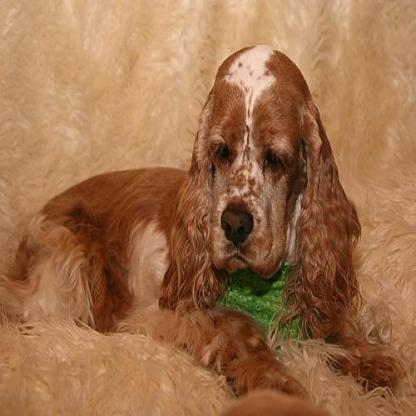cocker_spaniel: (0, 41, 409, 413)
